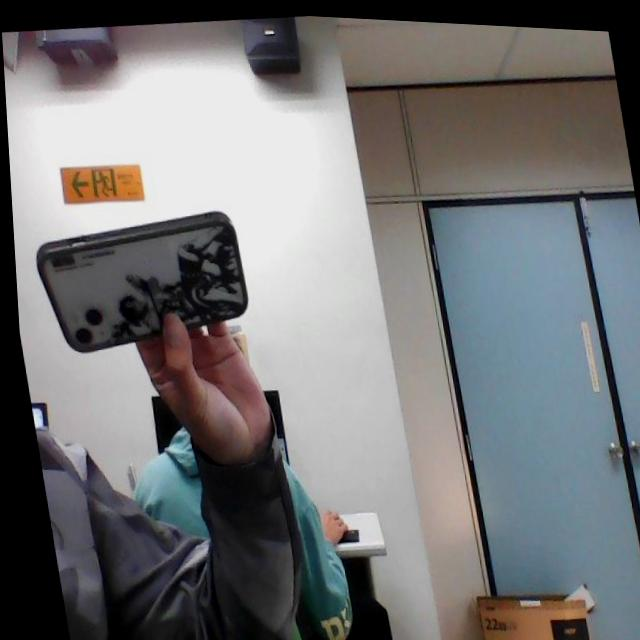Smartphone: (26, 194, 254, 370)
